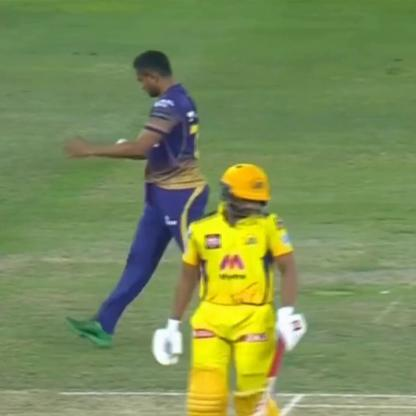ball: (112, 133, 134, 144)
